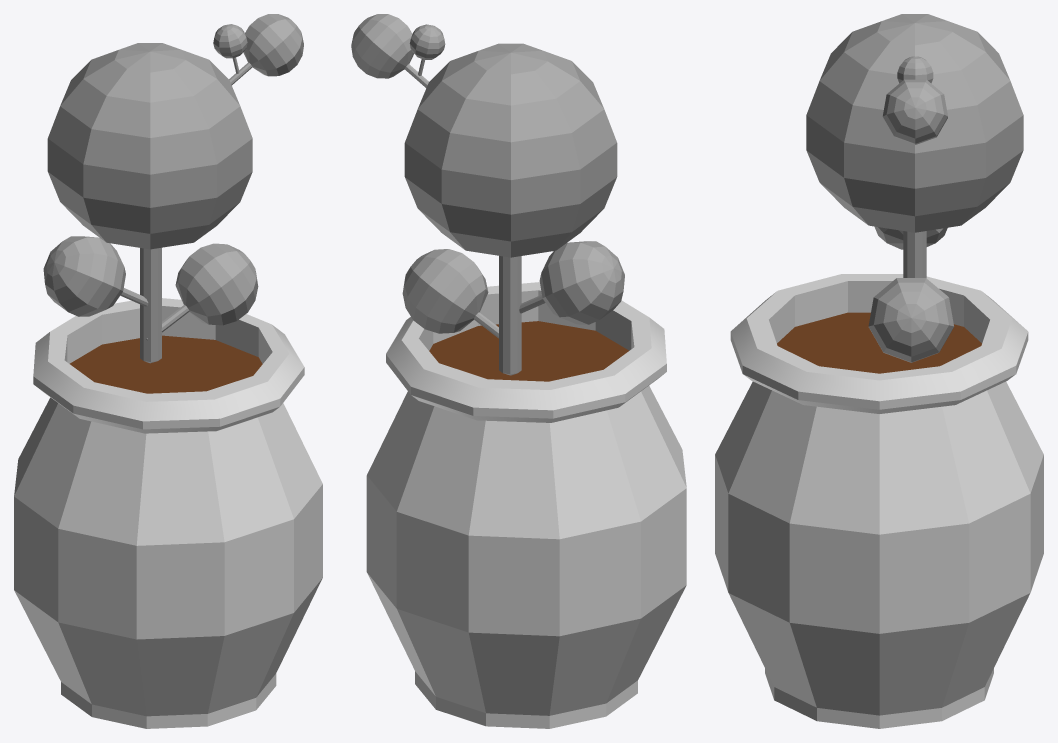
File: plant2.fbx
3 views of the same model, side by side, from view 1: azimuth 30°, elevation 25°; view 2: azimuth 150°, elevation 25°; view 3: azimuth 270°, elevation 25° (orthographic). The views are drawn at different scales.
Visible parts, largest first — view 1: pCylinder1, pSphere1, pSphere5, pSphere2, pSphere3, pSphere4; view 2: pCylinder1, pSphere1, pSphere2, pSphere5, pSphere3, pSphere4; view 3: pCylinder1, pSphere1, pSphere5, pSphere3, pSphere4, pSphere2.
Part boxes in pixels (left/top/right/bottom): pCylinder1: left=14, top=298, right=322, bottom=728; pSphere1: left=47, top=43, right=252, bottom=363; pSphere5: left=146, top=243, right=258, bottom=340; pSphere2: left=43, top=236, right=148, bottom=316; pSphere3: left=229, top=14, right=303, bottom=85; pSphere4: left=213, top=24, right=247, bottom=73; pCylinder1: left=366, top=282, right=686, bottom=728; pSphere1: left=404, top=43, right=617, bottom=375; pSphere2: left=519, top=241, right=624, bottom=324; pSphere5: left=402, top=249, right=498, bottom=338; pSphere3: left=351, top=14, right=428, bottom=87; pSphere4: left=409, top=24, right=445, bottom=75; pCylinder1: left=715, top=274, right=1043, bottom=728; pSphere1: left=806, top=14, right=1023, bottom=277; pSphere5: left=868, top=278, right=954, bottom=362; pSphere3: left=882, top=79, right=947, bottom=144; pSphere4: left=897, top=56, right=933, bottom=83; pSphere2: left=874, top=226, right=947, bottom=249.
Size of the model in its own units: 8.99 by 19.17 by 8.61.
